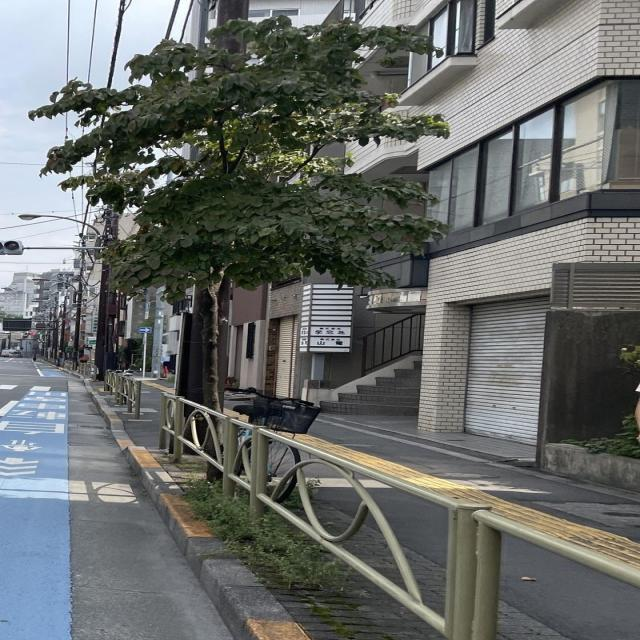dogwood: (26, 14, 453, 454)
